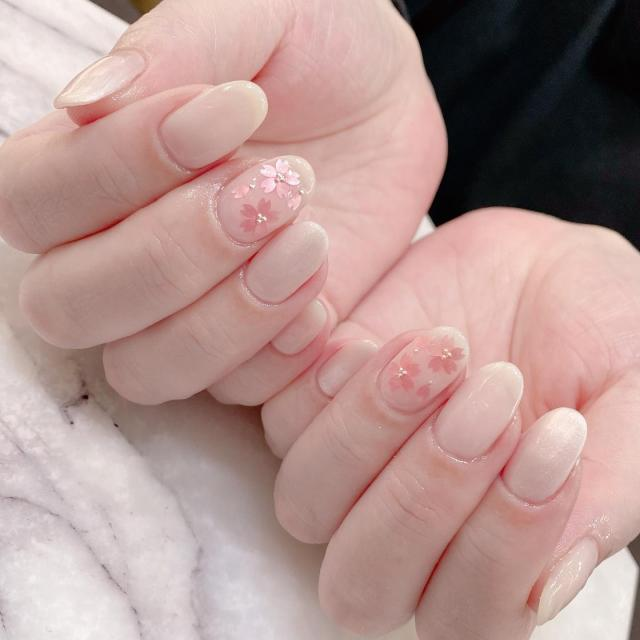Nail: (161, 80, 268, 169), (432, 362, 522, 460), (216, 155, 315, 244), (502, 408, 588, 504), (379, 326, 469, 412), (244, 221, 329, 304), (54, 51, 146, 109), (538, 538, 599, 624), (318, 339, 379, 397), (271, 299, 328, 355)
